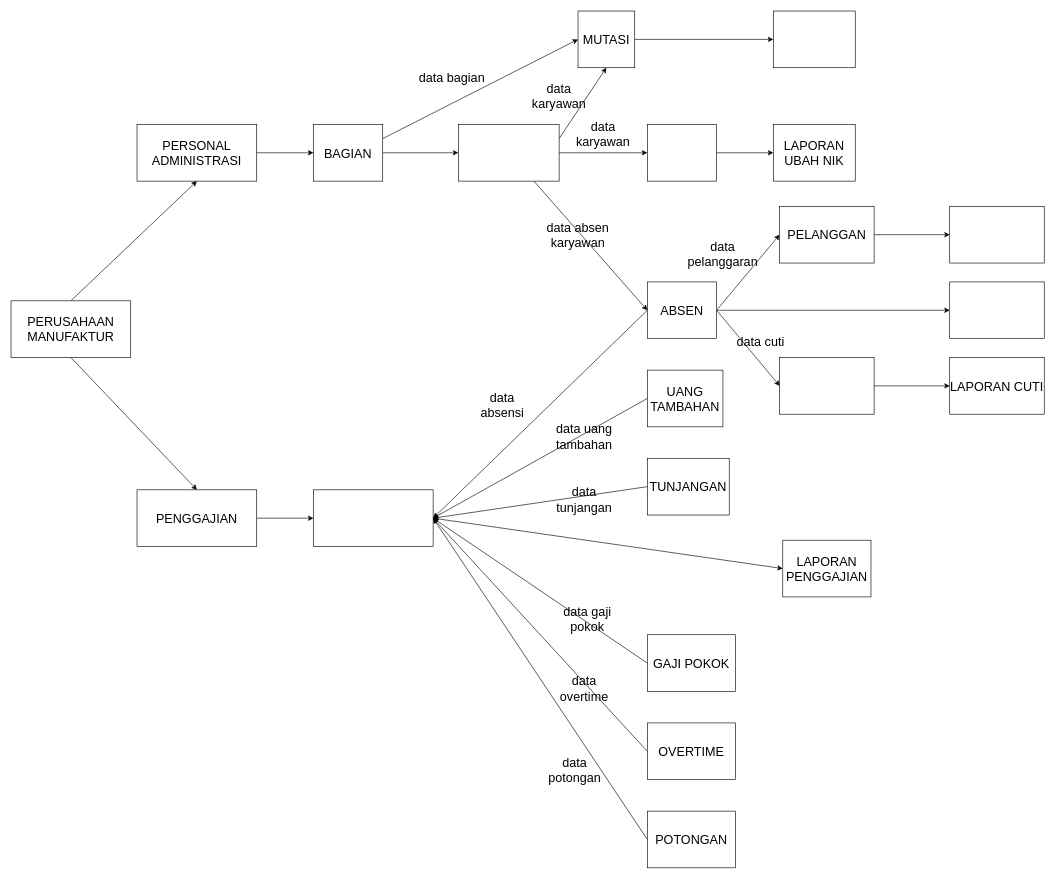
Image size: 1055x879. Some labels were removed from this diagram. The shapes that lost their labels are listed below. From the top down, each one's centre as x and y in pixels, then its label:
At point (814, 39): "LAPORAN MUTASI".
At point (508, 152): "KARYAWAN".
At point (682, 152): "UBAH NIK".
At point (996, 234): "LAPORAN SURAT PERINGATAN".
At point (996, 310): "LAPORAN ABSEN".
At point (826, 385): "CUTI".
At point (373, 518): "PENGHITUNGAN GAJI".
